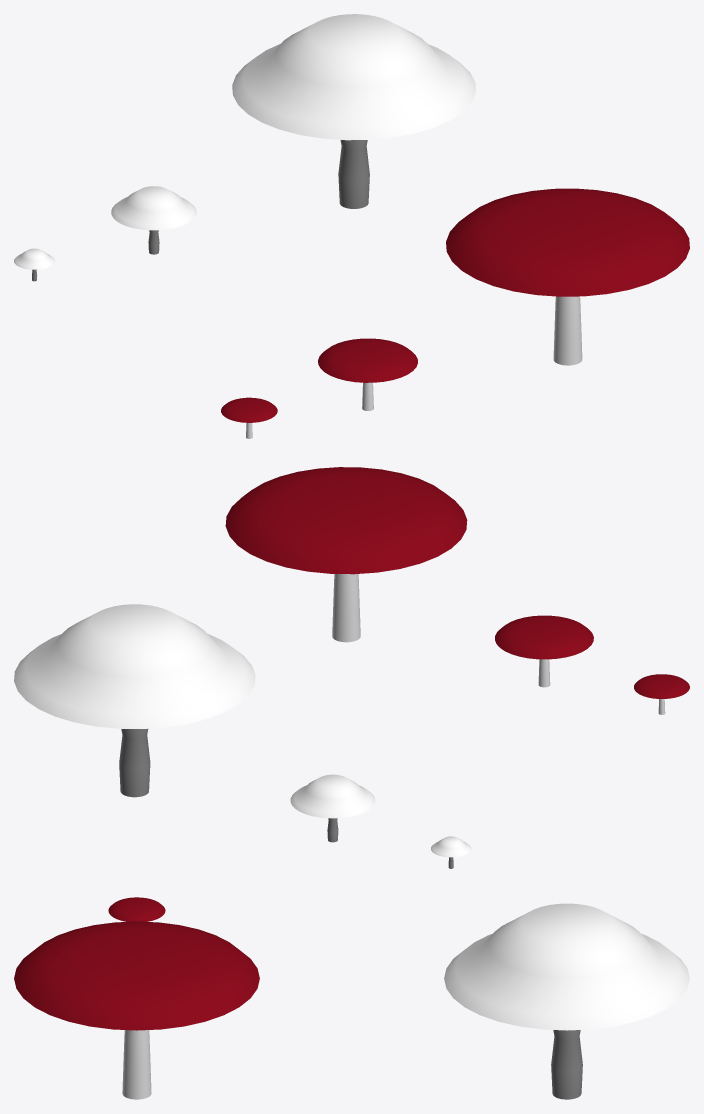
File: Hongos 1.fbx
3 renders of one model, top to bottom at view 1: azimuth 30°, elevation 25°; view 2: azimuth 150°, elevation 25°; view 3: azimuth 270°, elevation 25°, orthographic.
Visible parts, largest first — view 1: Cylinder.003, Cylinder, Cylinder.001, Cylinder.004, Cylinder.002, Cylinder.005; view 2: Cylinder.003, Cylinder, Cylinder.001, Cylinder.004, Cylinder.002, Cylinder.005; view 3: Cylinder.003, Cylinder, Cylinder.002.
Part boxes in pixels (<box>): Cylinder.003: <box>232,14,475,208</box>; Cylinder: <box>446,188,689,365</box>; Cylinder.001: <box>318,338,417,410</box>; Cylinder.004: <box>111,186,196,254</box>; Cylinder.002: <box>221,397,277,438</box>; Cylinder.005: <box>14,248,54,281</box>; Cylinder.003: <box>14,604,255,797</box>; Cylinder: <box>225,467,467,642</box>; Cylinder.001: <box>495,615,593,687</box>; Cylinder.004: <box>290,774,375,842</box>; Cylinder.002: <box>634,674,689,714</box>; Cylinder.005: <box>431,836,471,868</box>; Cylinder.003: <box>444,903,689,1099</box>; Cylinder: <box>14,921,259,1099</box>; Cylinder.002: <box>108,897,165,921</box>.
Bounding box in the file's own units: 424 × 154 × 550.
